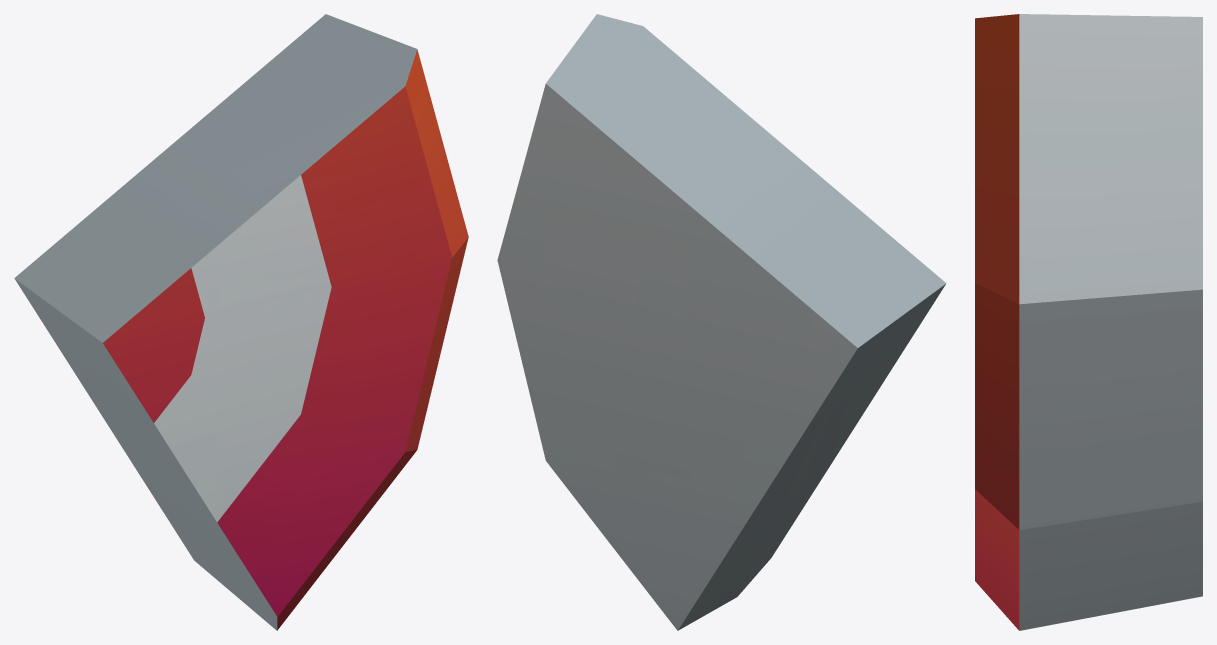
The model's file is kaykit-prototype-bits-target-pieces-b.glb.
3 views of the same model, side by side, from view 1: azimuth 30°, elevation 25°; view 2: azimuth 150°, elevation 25°; view 3: azimuth 270°, elevation 25° (orthographic). The views are drawn at different scales.
Parts seen in each view (by area): view 1: target_pieces_B; view 2: target_pieces_B; view 3: target_pieces_B.
Boxes of the visible parts, left/top/right/bottom form: target_pieces_B: left=14, top=14, right=468, bottom=630; target_pieces_B: left=497, top=14, right=946, bottom=630; target_pieces_B: left=975, top=14, right=1202, bottom=630.
Bounding box in the file's own units: 0.5 × 0.683 × 0.2.
Materials: 1 (1 with a texture image).
